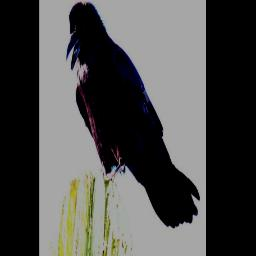Crow: (66, 1, 200, 229)
